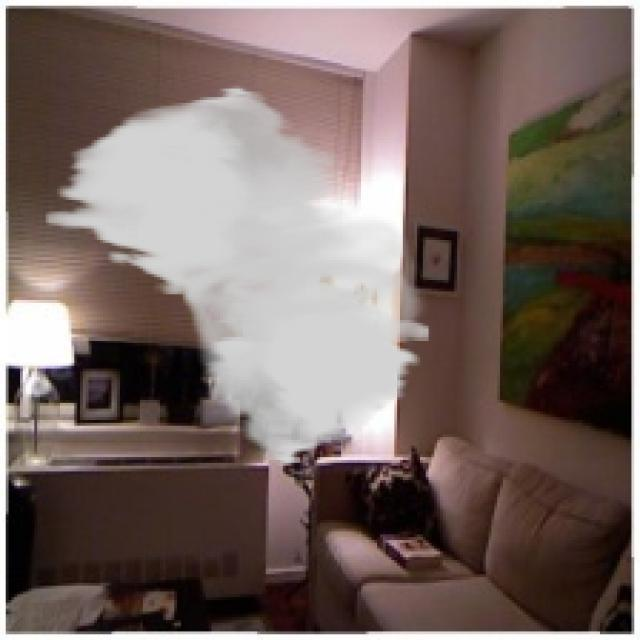Smoke: (46, 86, 432, 468)
